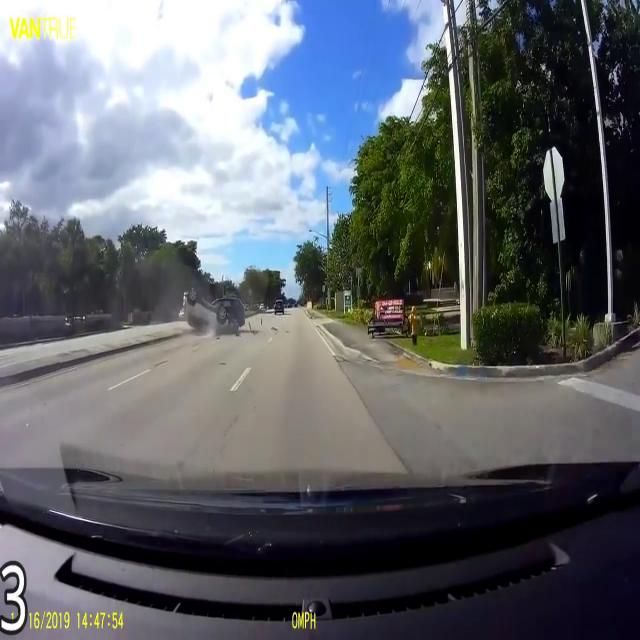accident: (182, 294, 242, 336)
